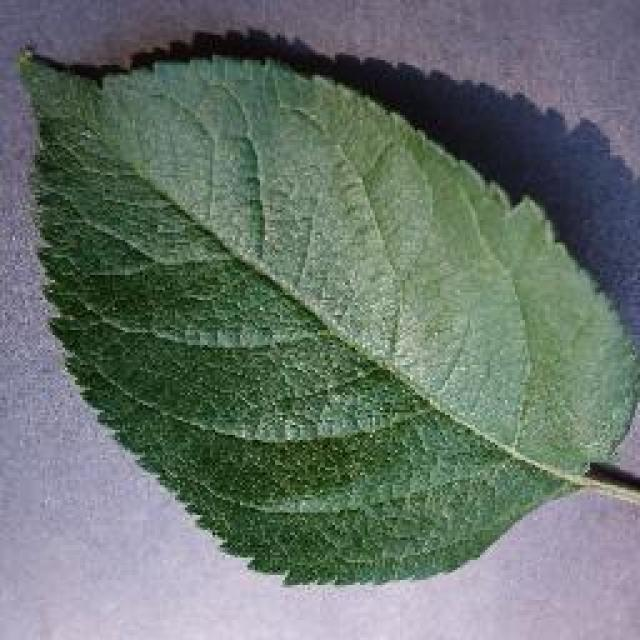apple healthy: (15, 25, 637, 590)
